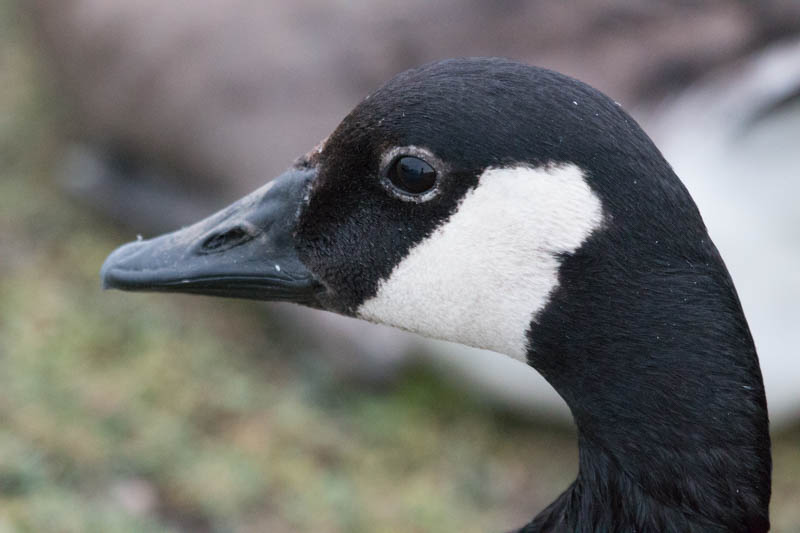goose-head: (101, 58, 692, 380)
